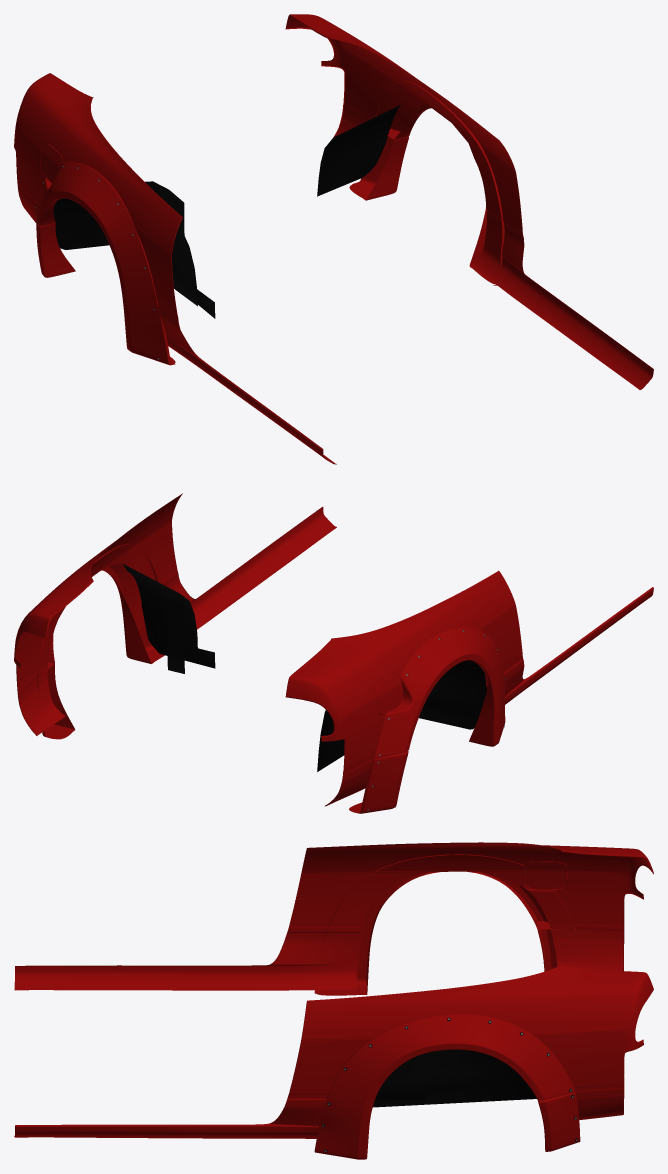
File: rearfenders_rocketbunnyv1.glb
3 views of the same model, one above another, from view 1: azimuth 30°, elevation 25°; view 2: azimuth 150°, elevation 25°; view 3: azimuth 270°, elevation 25° (orthographic).
Parts seen in each view (by area): view 1: Fenders, Extensions, Undercarriage, Extensions 2; view 2: Fenders, Extensions, Undercarriage, Extensions 2; view 3: Fenders, Extensions, Undercarriage, Extensions 2.
Part boxes in pixels (bbox=[...]): Fenders: bbox=[14, 14, 653, 464]; Extensions: bbox=[36, 80, 504, 365]; Undercarriage: bbox=[53, 104, 401, 318]; Extensions 2: bbox=[36, 136, 408, 277]; Fenders: bbox=[14, 493, 653, 806]; Extensions: bbox=[37, 544, 505, 759]; Undercarriage: bbox=[122, 563, 486, 771]; Extensions 2: bbox=[37, 664, 408, 813]; Fenders: bbox=[14, 842, 653, 1138]; Extensions: bbox=[314, 854, 575, 1159]; Undercarriage: bbox=[372, 1049, 536, 1107]; Extensions 2: bbox=[537, 929, 580, 1151].
Bounding box in the file's own units: 1.82 × 0.7729 × 2.73.
